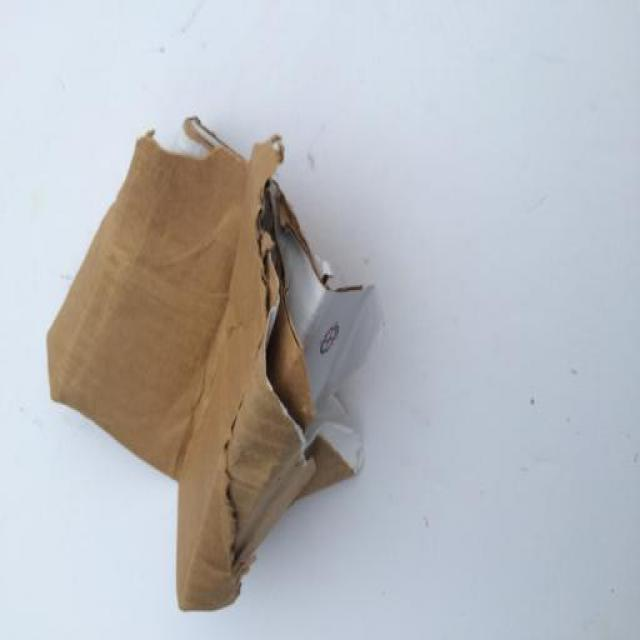cardboard: (25, 112, 391, 640)
